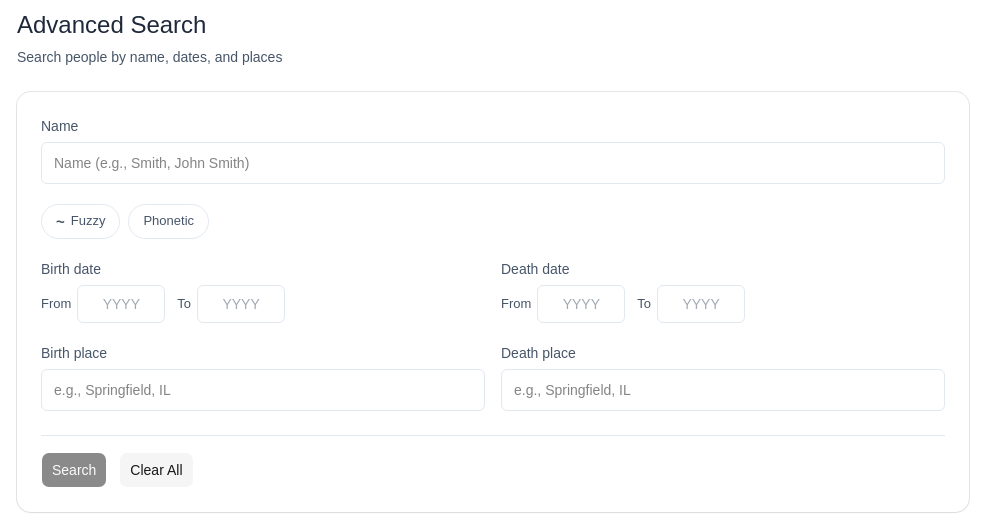
Test case: Advanced Search Page › Form Interactions › entering a birth year enables Search button
The image size is (987, 530).
Expected: the button "Search" is disabled, [41,452,107,488]
Type "1850" into the field with placeholder "YYYY" below "Birth date" at (121, 304), box [77,285,165,323]
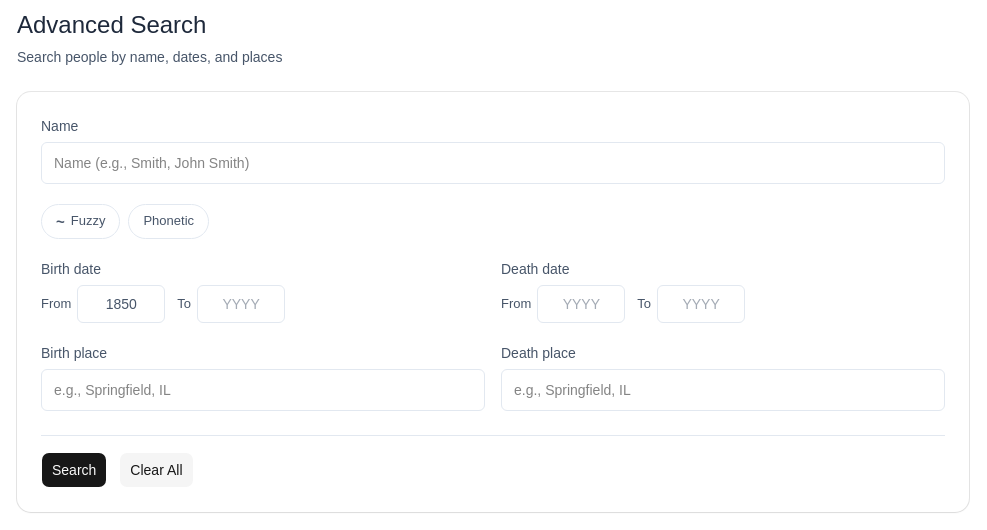
Now the button "Search" is enabled, box [41,452,107,488]
